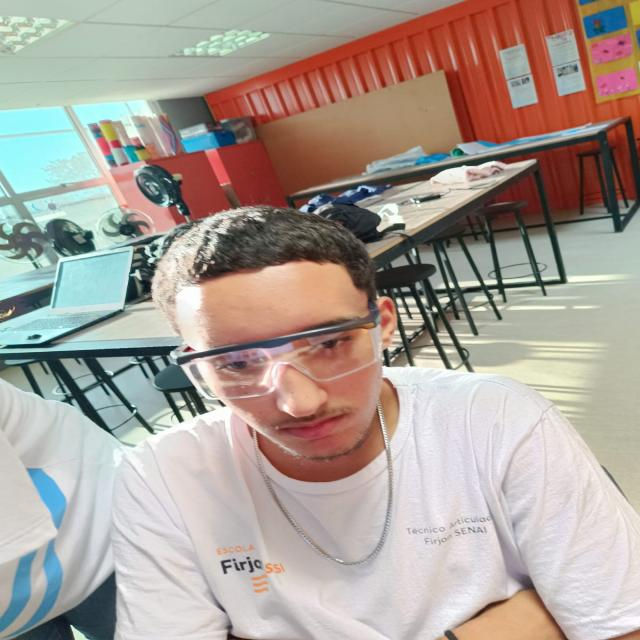oculos-epi: (168, 306, 383, 401)
